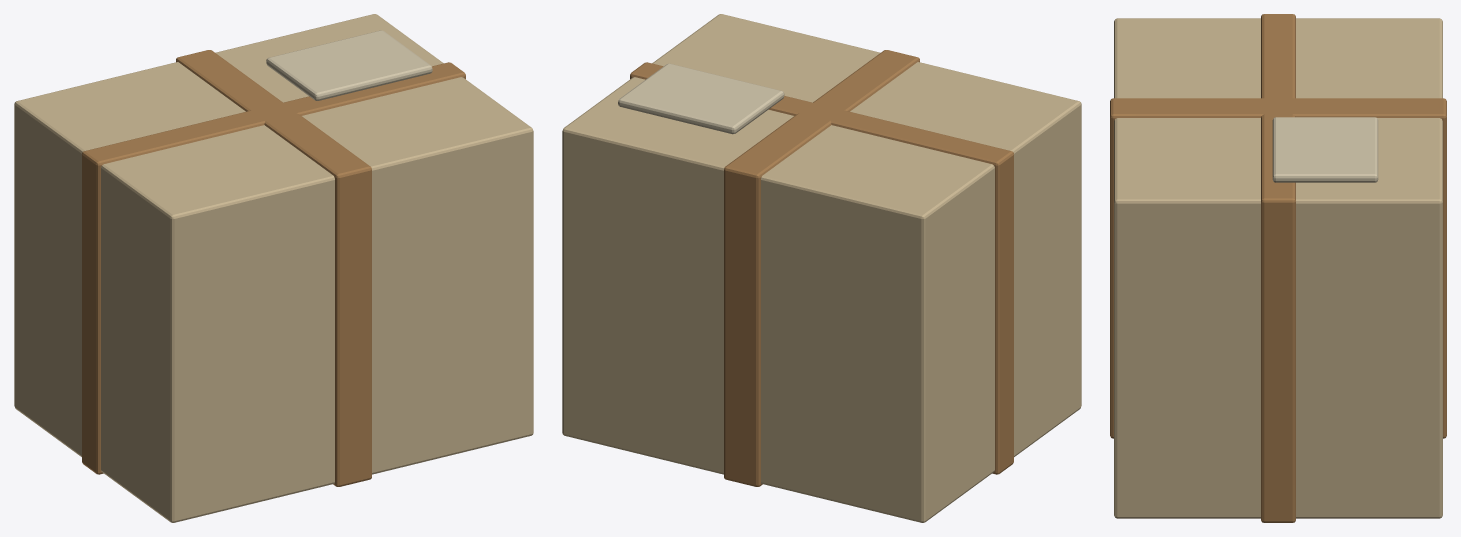
Rendered from parcel.glb.
3 views of the same model, side by side, from view 1: azimuth 30°, elevation 25°; view 2: azimuth 150°, elevation 25°; view 3: azimuth 270°, elevation 25° (orthographic). The views are drawn at different scales.
Bounding box in the file's own units: 0.377 × 0.3145 × 0.287.
